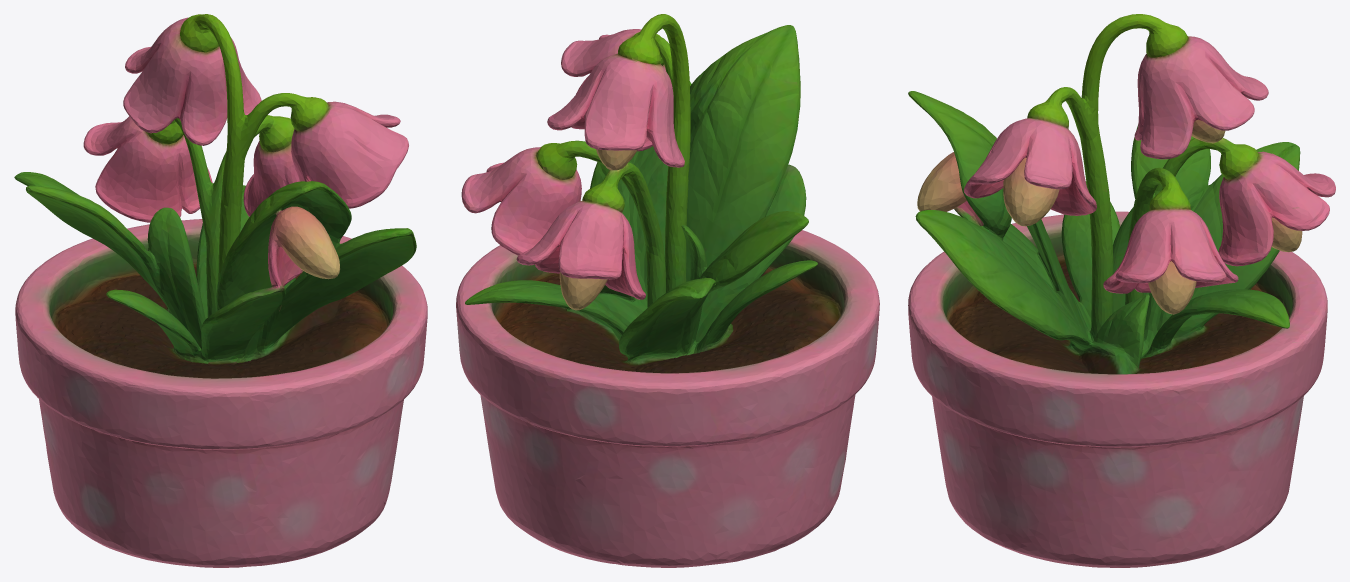
Rendered from flower_7.glb.
3 views of the same model, side by side, from view 1: azimuth 30°, elevation 25°; view 2: azimuth 150°, elevation 25°; view 3: azimuth 270°, elevation 25° (orthographic). The views are drawn at different scales.
Visible parts, largest first — view 1: tripo_node_fac1048a-b3c2-47fc-8066-866bae16cfc6; view 2: tripo_node_fac1048a-b3c2-47fc-8066-866bae16cfc6; view 3: tripo_node_fac1048a-b3c2-47fc-8066-866bae16cfc6.
Boxes of the visible parts, bbox=[...] form: tripo_node_fac1048a-b3c2-47fc-8066-866bae16cfc6: bbox=[14, 14, 427, 567]; tripo_node_fac1048a-b3c2-47fc-8066-866bae16cfc6: bbox=[456, 14, 879, 567]; tripo_node_fac1048a-b3c2-47fc-8066-866bae16cfc6: bbox=[908, 14, 1335, 567].
Bounding box in the file's own units: 0.7784 × 0.9994 × 0.7934.
1 material, 1 textured.
